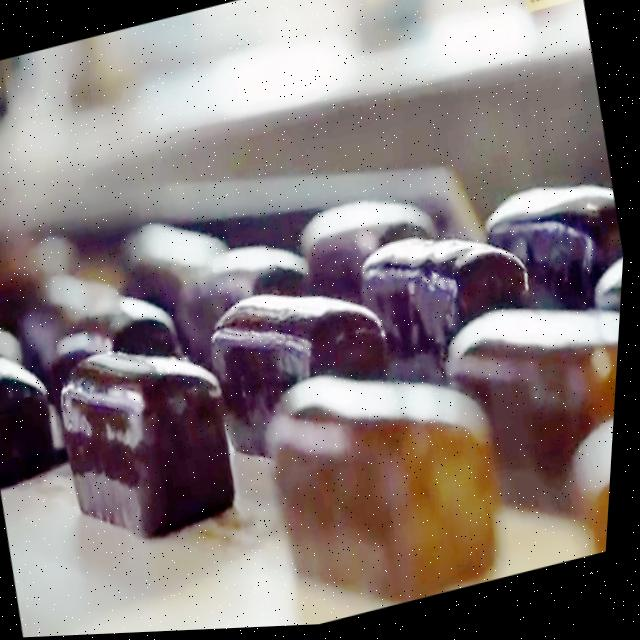Choco: (249, 332, 531, 628), (429, 268, 626, 565), (45, 318, 257, 560), (351, 207, 547, 375), (475, 148, 632, 347), (201, 261, 401, 414)
